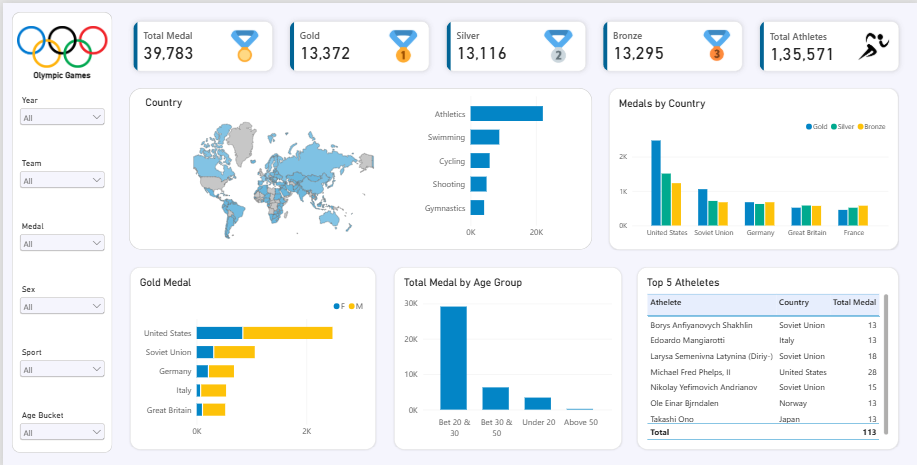

This screenshot's page, from the dashboard's own definition file:
{"tool":"powerbi","page":{"name":"Page 1","canvas":[1580,800],"ordinal":0},"visuals":[{"type":"shape","box":[217.7,147.2,798.5,279.1],"z":0},{"type":"cardVisual","fields":{"Data":["Measure_.Total Medal","Measure_.Gold","Measure_.Silver","Measure_.Bronze","Measure_.Total Athletes"]},"box":[213.6,20.1,1344.9,109],"z":1000},{"type":"shapeMap","title":"Country","fields":{"Category":["athlete.Team"],"Value":["CountNonNull(athlete.Medal)"]},"box":[229.7,147.2,509,286.6],"z":2000},{"type":"barChart","fields":{"Category":["athlete.Sport"],"Y":["Count(athlete.Name)"]},"box":[705.8,139.7,298.5,286.6],"z":3000},{"type":"clusteredColumnChart","title":"Medals by Country","fields":{"Category":["athlete.Team"],"Y":["Measure_.Gold","Measure_.Silver","Measure_.Bronze"]},"box":[1044.6,147.2,498.5,279.1],"z":4000},{"type":"barChart","title":"Gold Medal","fields":{"Y":["Measure_.Gold"],"Category":["athlete.Team"],"Series":["athlete.Sex"]},"box":[219.2,455.6,423.9,314.9],"z":5000},{"type":"columnChart","title":"Total Medal by Age Group","fields":{"Category":["athlete.Age Bucket"],"Y":["Measure_.Total Medal"]},"box":[674.4,455.6,392.5,314.9],"z":6000},{"type":"tableEx","title":"Top 5 Atheletes","fields":{"Values":["athlete.Name","athlete.Team","athlete.Medal"]},"box":[1093.8,455.6,450.7,314.9],"z":7000},{"type":"shape","box":[14.8,15.8,172.9,760.1],"z":8000},{"type":"image","box":[23.6,19.9,155.5,109.5],"z":9000},{"type":"textbox","box":[23.6,114.5,155.5,27.4],"z":10000},{"type":"slicer","fields":{"Values":["athlete.Year"]},"box":[23.6,158,155.5,59.7],"z":11000},{"type":"slicer","fields":{"Values":["athlete.Team"]},"box":[23.6,266.9,155.5,59.7],"z":12000},{"type":"slicer","fields":{"Values":["athlete.Medal"]},"box":[23.6,375.8,155.5,59.7],"z":13000},{"type":"slicer","fields":{"Values":["athlete.Sex"]},"box":[23.6,484.7,155.5,59.7],"z":14000},{"type":"slicer","fields":{"Values":["athlete.Sport"]},"box":[23.6,593.6,155.5,59.7],"z":15000},{"type":"slicer","fields":{"Values":["athlete.Age Bucket"]},"box":[23.6,702.5,155.5,59.7],"z":16000}]}

Visuals, with their boxes in screenshot pixels (x1, y1, x2, y2), scaled from the page's 1580x800 canvas onto the 917x465 screenshot:
shape: rect(126, 86, 590, 248)
cardVisual - Measure_.Total Medal x Measure_.Gold: rect(124, 12, 905, 75)
"Country" shapeMap: rect(133, 86, 429, 252)
barChart - athlete.Sport x Count(athlete.Name): rect(410, 81, 583, 248)
"Medals by Country" clusteredColumnChart: rect(606, 86, 896, 248)
"Gold Medal" barChart: rect(127, 265, 373, 448)
"Total Medal by Age Group" columnChart: rect(391, 265, 619, 448)
"Top 5 Atheletes" tableEx: rect(635, 265, 896, 448)
shape: rect(9, 9, 109, 451)
image: rect(14, 12, 104, 75)
textbox: rect(14, 67, 104, 82)
slicer - athlete.Year: rect(14, 92, 104, 127)
slicer - athlete.Team: rect(14, 155, 104, 190)
slicer - athlete.Medal: rect(14, 218, 104, 253)
slicer - athlete.Sex: rect(14, 282, 104, 316)
slicer - athlete.Sport: rect(14, 345, 104, 380)
slicer - athlete.Age Bucket: rect(14, 408, 104, 443)
